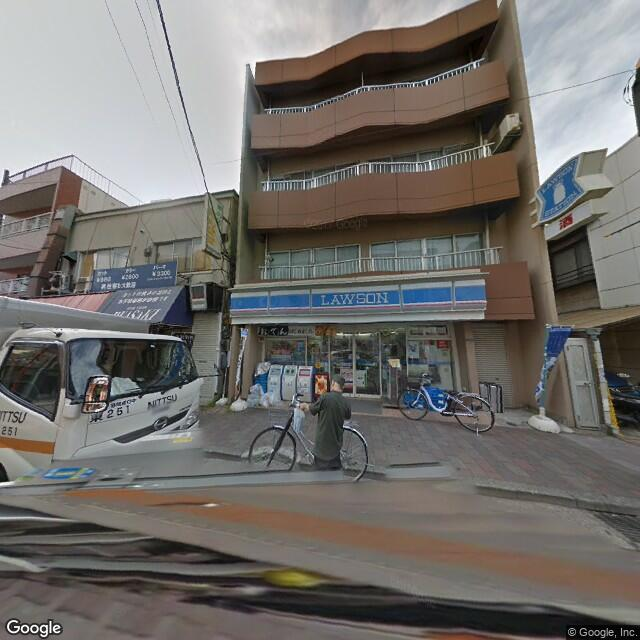lawson: (229, 272, 485, 316), (534, 148, 588, 221)
